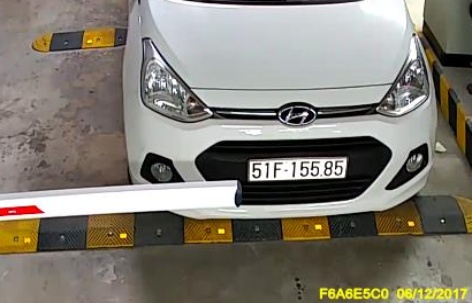plate: (249, 156, 349, 189)
